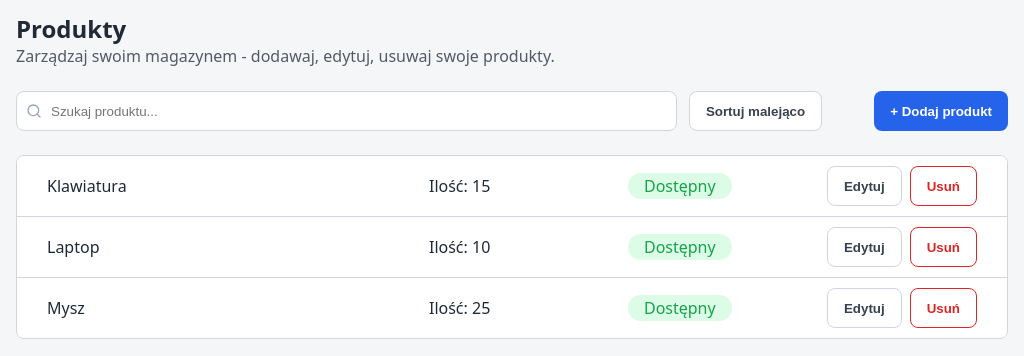
Test: shows only products matching the search phrase
Type "mys" into the search field at (346, 111), box 16,91 -> 677,131
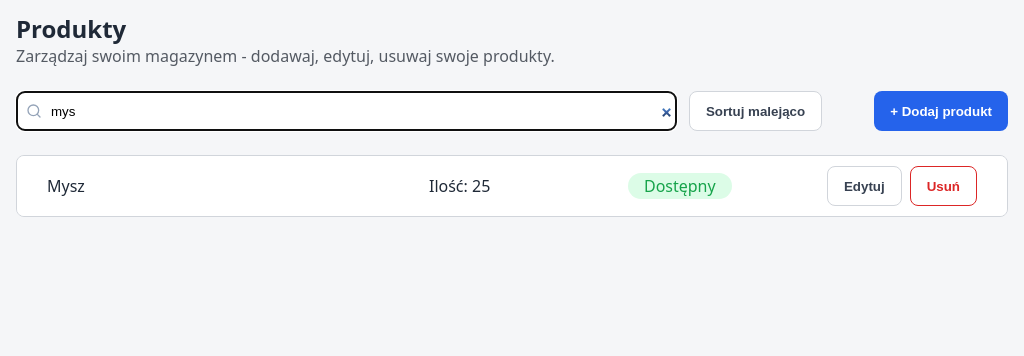
Expected: the text "Mysz" is shown, 47,175 -> 85,197
Expected: the text "Laptop" is gone
Expected: the text "Klawiatura" is gone
